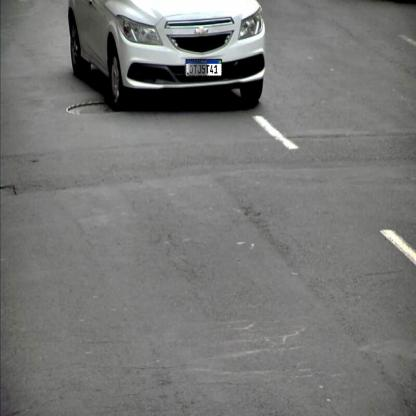PlacaM: (186, 59, 222, 76)
